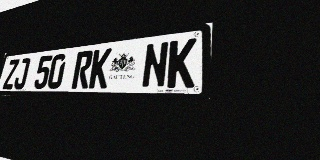0: (46, 53, 67, 89)
5: (33, 55, 53, 89)
J: (13, 58, 31, 89)
K: (166, 38, 197, 88), (88, 48, 112, 89)
N: (141, 41, 169, 88)
R: (71, 50, 94, 89)
Z: (2, 59, 20, 89)
